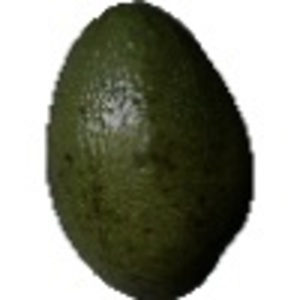abacate: (40, 2, 256, 291)
